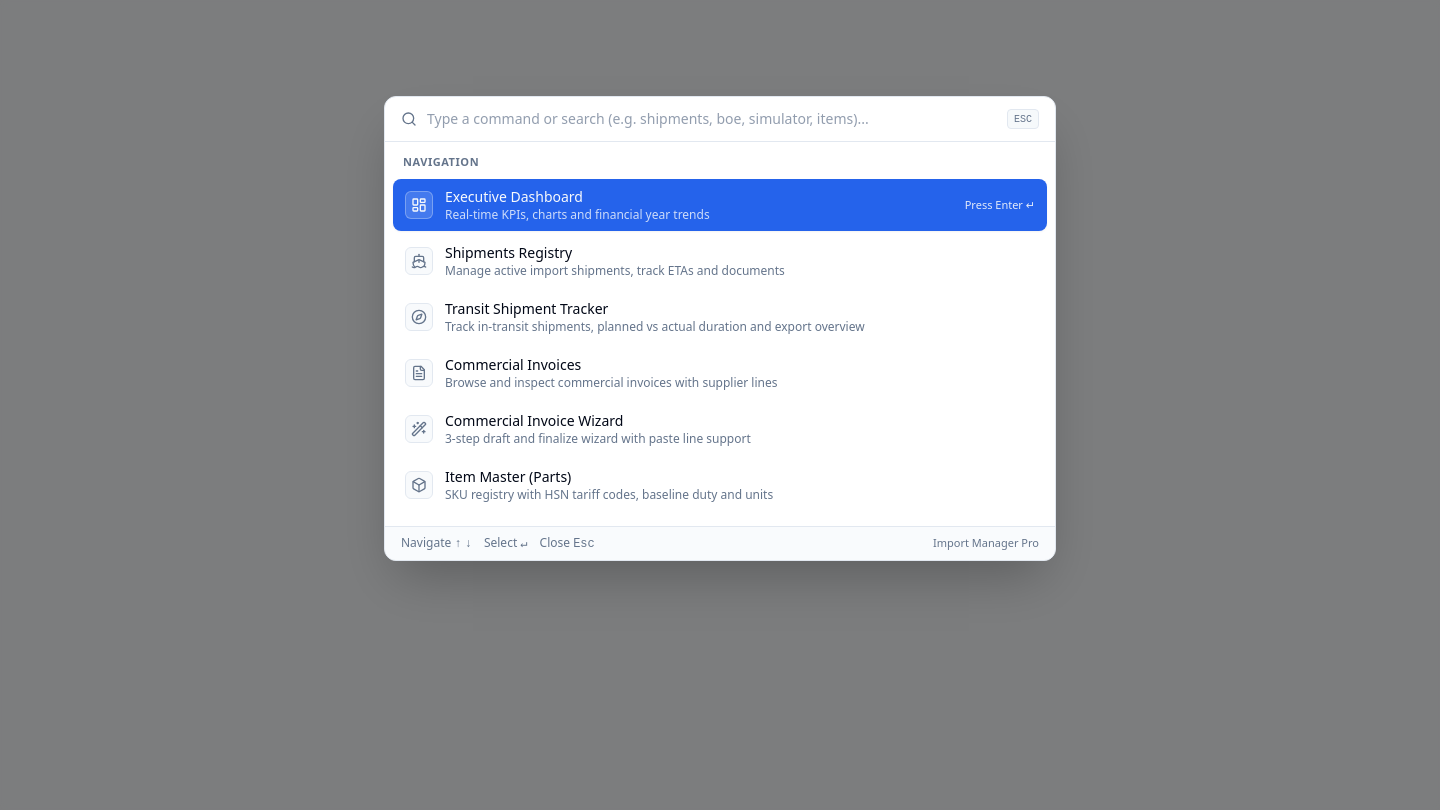
Phase 1: Command Palette (Ctrl+K) › filters command list on user input
Replace the text in the field with placeholder "Type a command or search" with "simulator" at (712, 119), box x1=427 y1=109 x2=997 y2=129
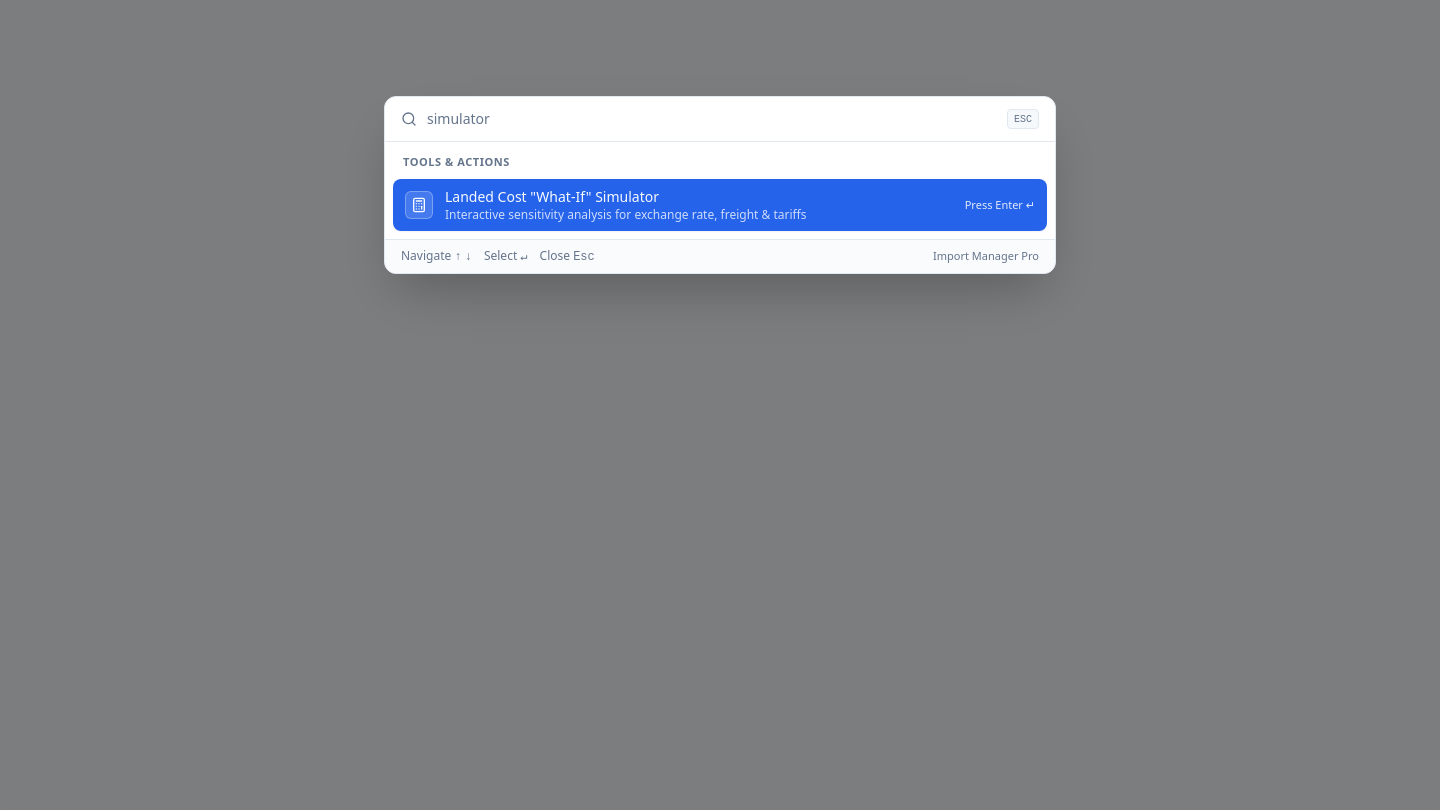
Check: the text "Landed Cost \"What-If\" Simulator" is shown, box x1=445 y1=186 x2=659 y2=206
Check: the button "Shipments Registry" is gone
